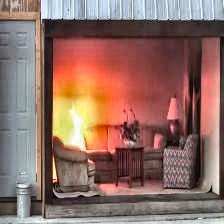fire: (56, 95, 90, 154)
